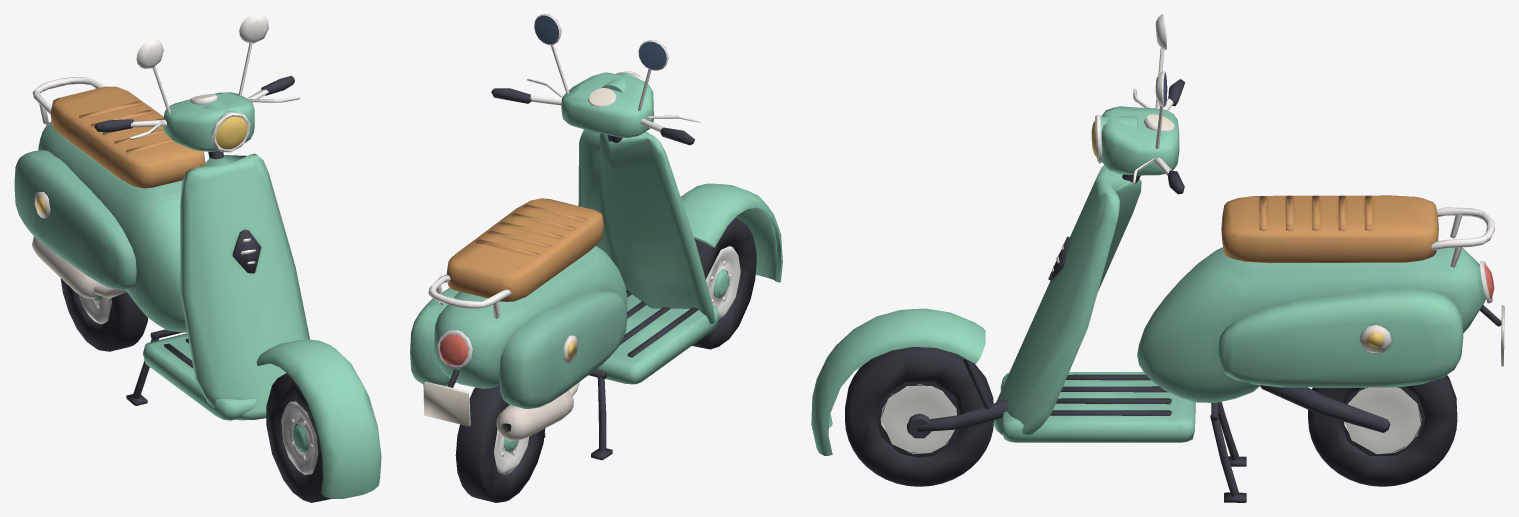
The model's file is scooter.glb.
3 renders of one model, left to right at view 1: azimuth 30°, elevation 25°; view 2: azimuth 150°, elevation 25°; view 3: azimuth 270°, elevation 25°, orthographic. The views are drawn at different scales.
Visible parts, largest first — view 1: scooter_body, scooter_steering, scooter_wheel_front; view 2: scooter_body, scooter_steering, scooter_wheel_front; view 3: scooter_body, scooter_steering, scooter_wheel_front.
Part boxes in pixels (box(x1,y1,x2,y2)): scooter_body: box(14, 77, 309, 420); scooter_steering: box(78, 14, 381, 498); scooter_wheel_front: box(60, 278, 331, 502); scooter_body: box(410, 129, 719, 460); scooter_steering: box(491, 14, 782, 474); scooter_wheel_front: box(455, 217, 756, 502); scooter_body: box(993, 165, 1504, 502); scooter_steering: box(811, 14, 1421, 455); scooter_wheel_front: box(845, 347, 1457, 486).
Size of the model in its own units: 0.735 by 1.37 by 1.98.
Materials: 8 (1 with a texture image).
